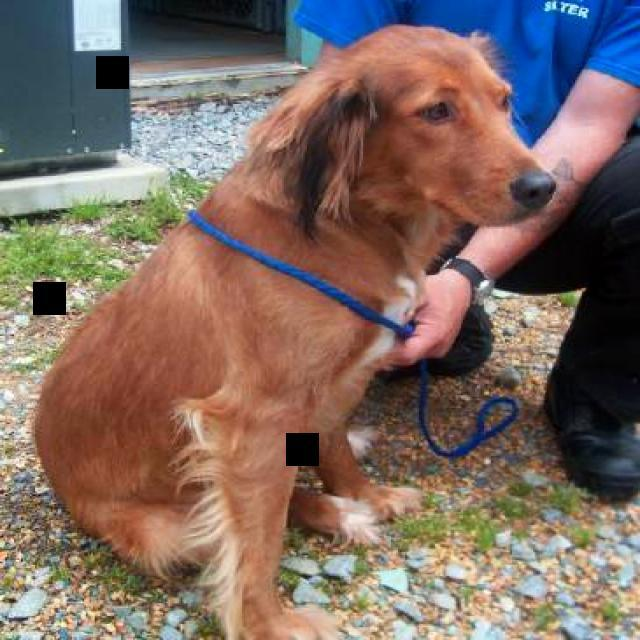adult_dog: (35, 23, 560, 640)
